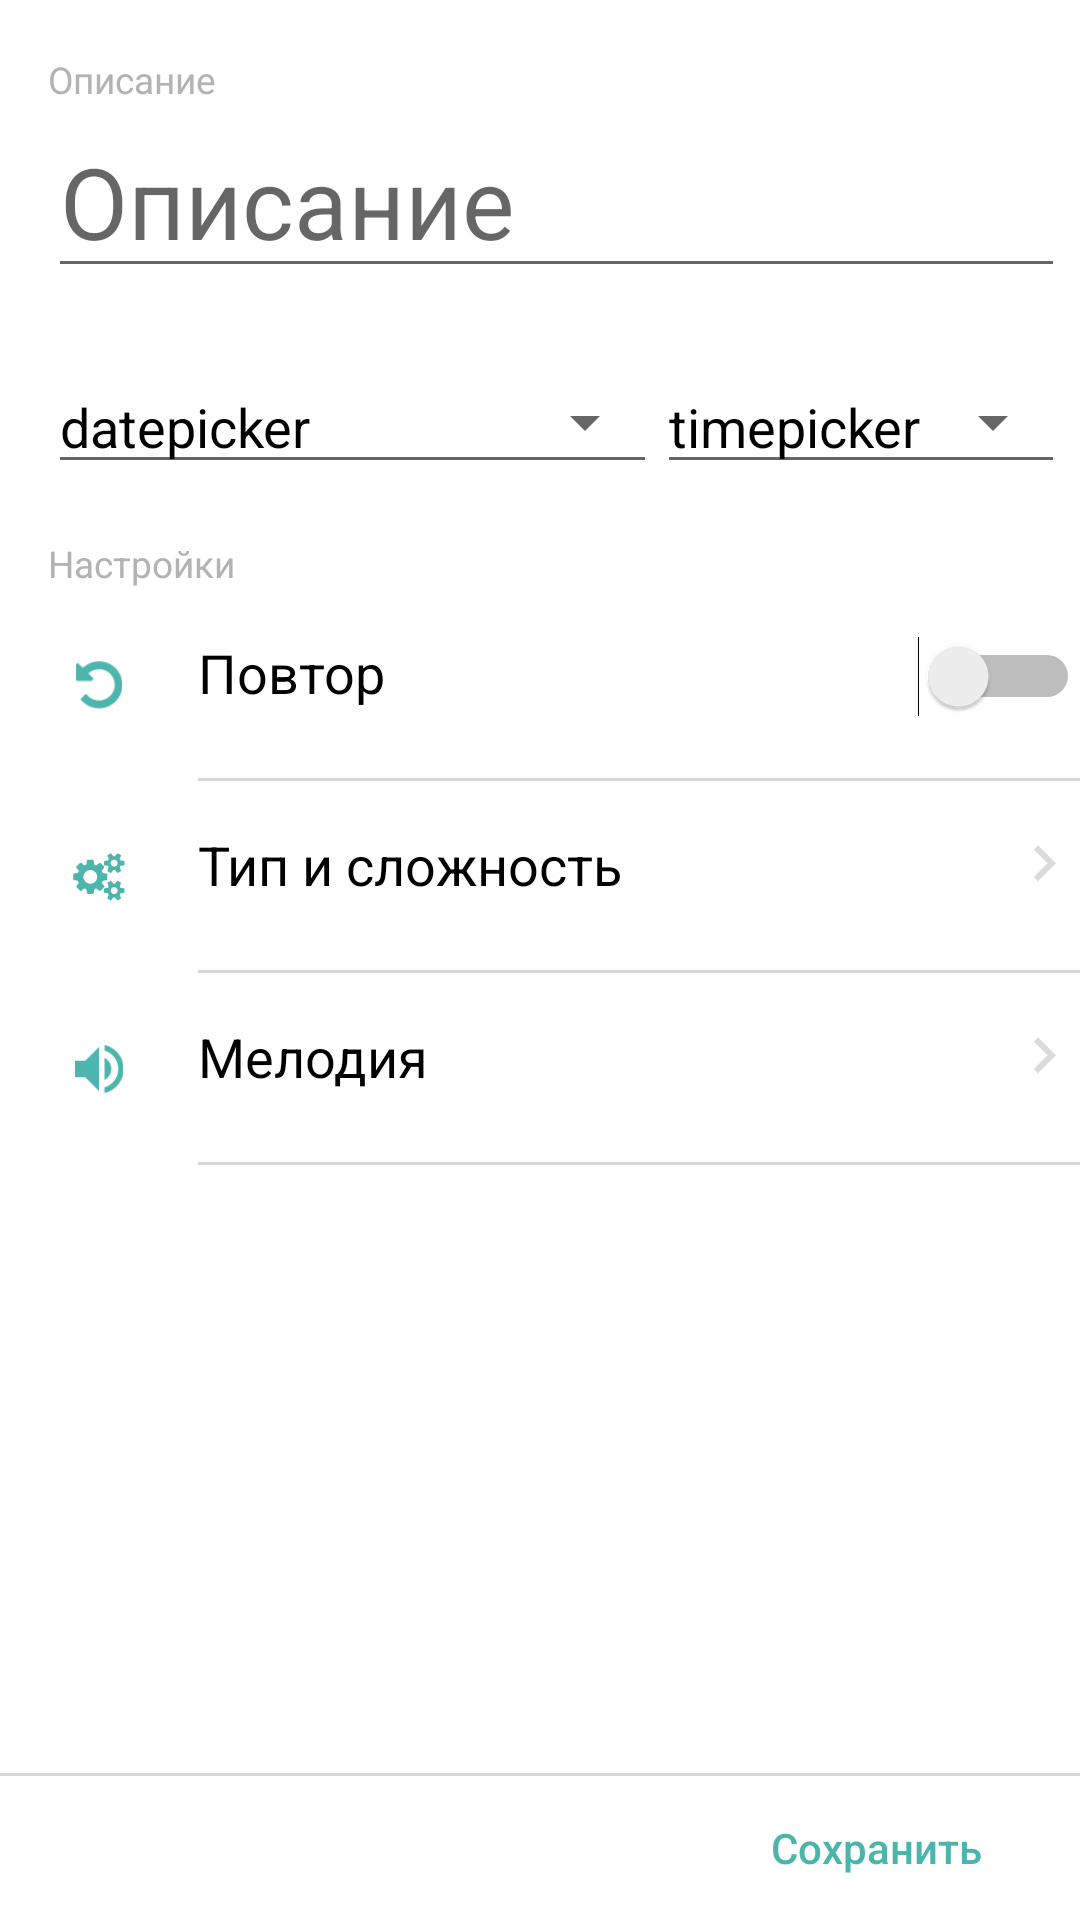

Point at icon controls on the screen. Image size 1080px×1920px, points as point (x, y).
melody: point (99, 1069)
repeat: point (99, 685)
